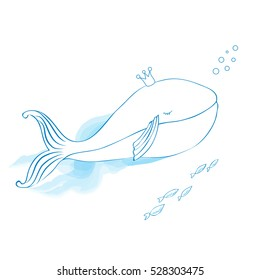fish: (14, 78, 219, 190)
